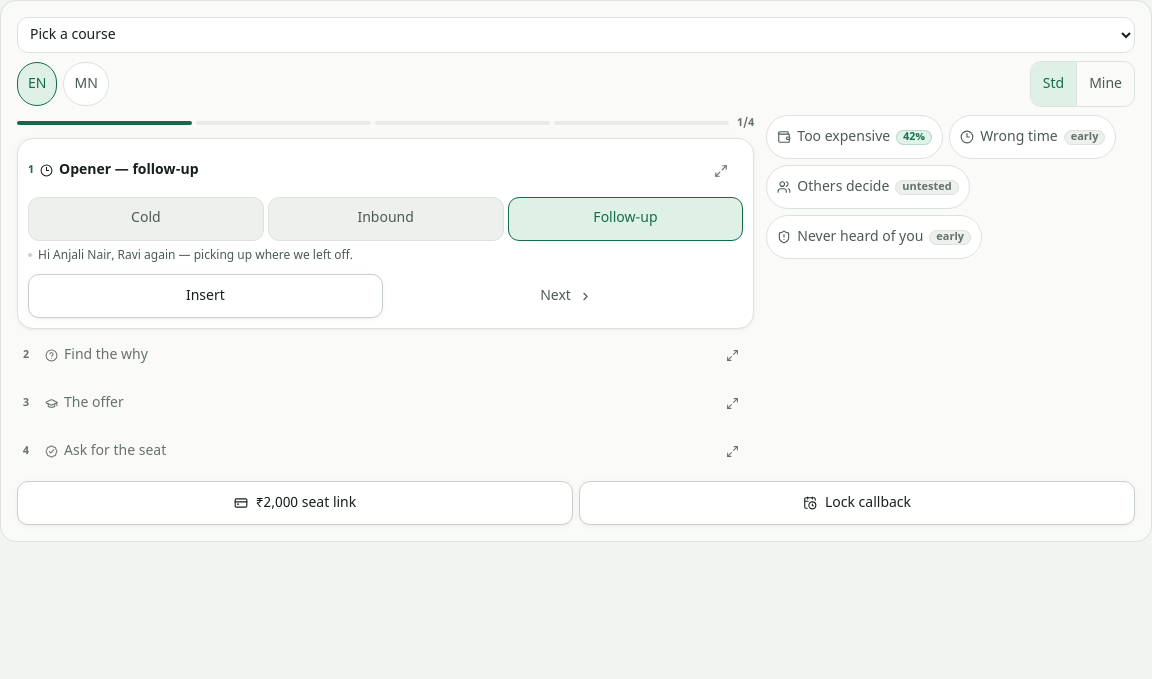
Test case: CallHud layout › AT-06: the tab shows the roadmap and the rebuttal at once, objections in their own zone
Expected: the heading "Opener — follow-up" is shown, [59,160,199,180]
Click the button "Too expensive 42%". click: [855, 137]
box: [766,115,943,159]
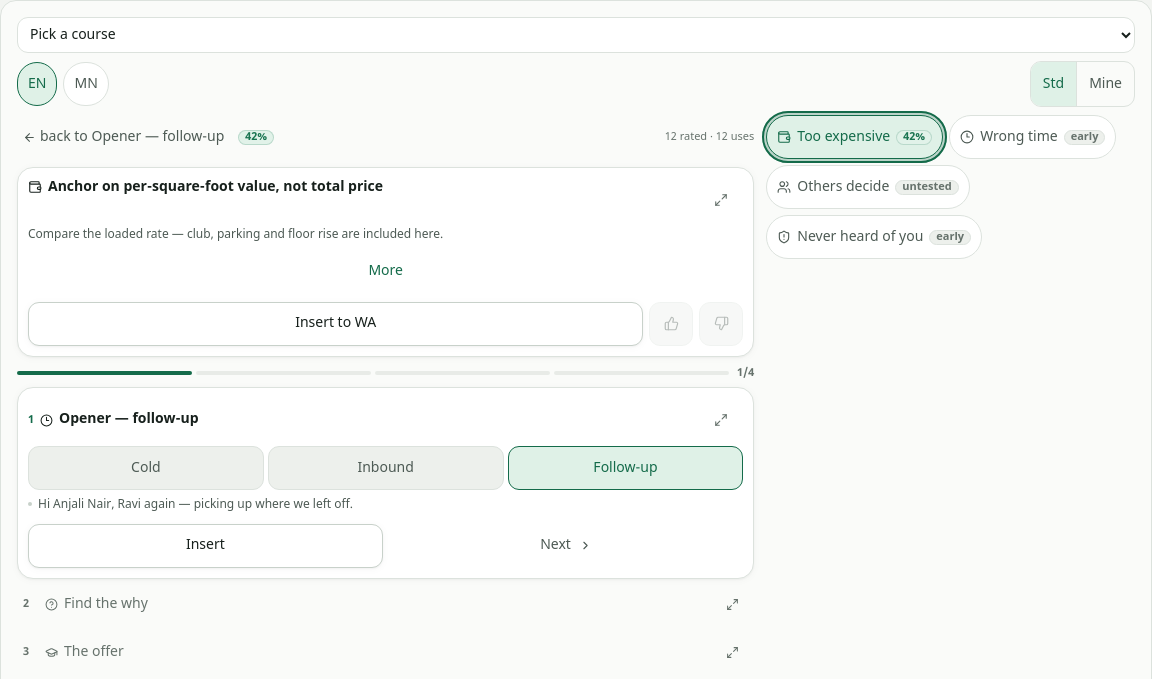
Expected: the text "Hi Anjali Nair, Ravi again — picking up where we left off." is shown, [38,496,353,516]
Expected: the heading "Anchor on per-square-foot value, not total price" is shown, [48,178,383,197]
